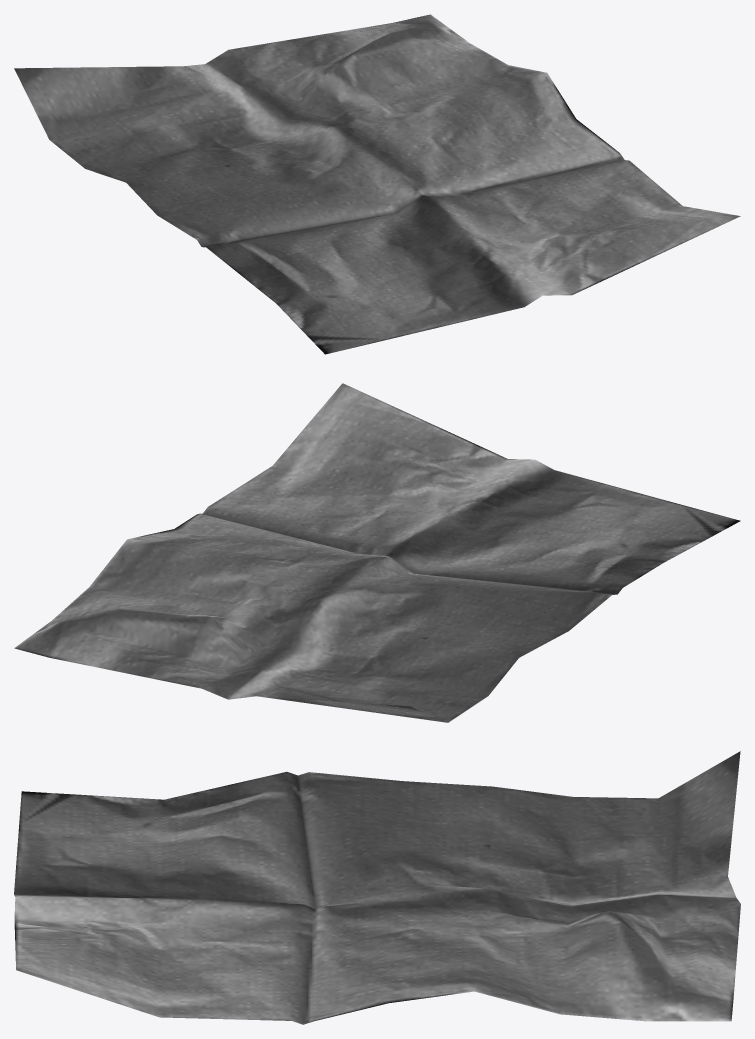
The model's file is napkin_3.fbx.
The picture shows the model from 3 angles, top to bottom: view 1: azimuth 30°, elevation 25°; view 2: azimuth 150°, elevation 25°; view 3: azimuth 270°, elevation 25°; orthographic projection. The views are drawn at different scales.
Visible parts, largest first — view 1: napkin_003; view 2: napkin_003; view 3: napkin_003.
Part boxes in pixels (box(x1,y1,x2,y2)): napkin_003: box(14, 14, 740, 354); napkin_003: box(14, 383, 740, 722); napkin_003: box(14, 751, 740, 1024).
Bounding box in the file's own units: 21.22 × 2.55 × 28.34.
